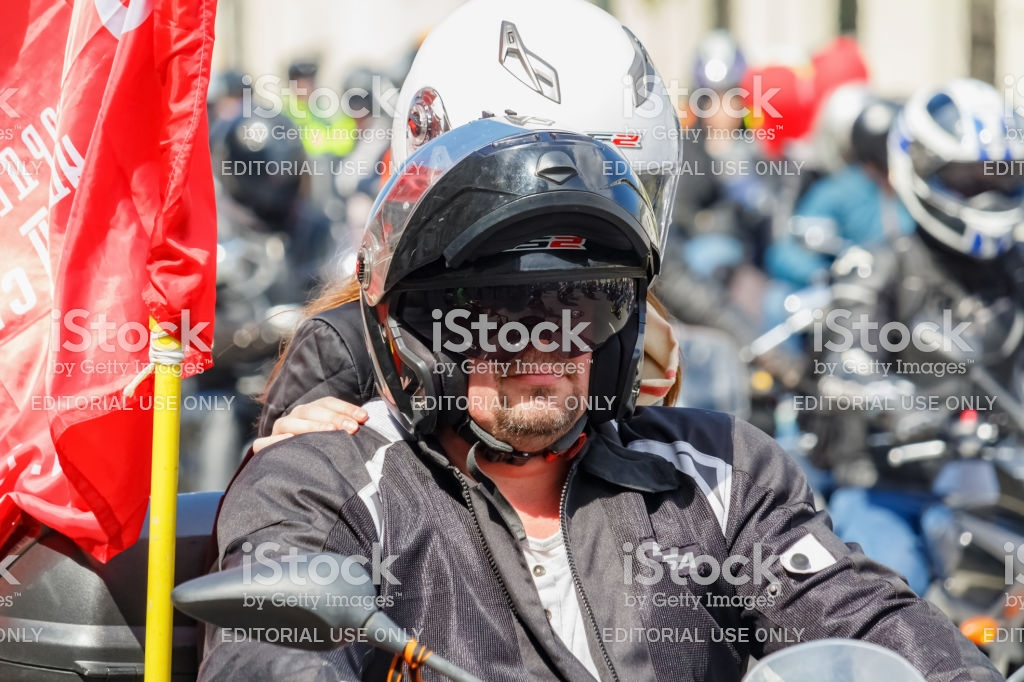helmet: (354, 136, 648, 390), (878, 72, 1024, 267)
